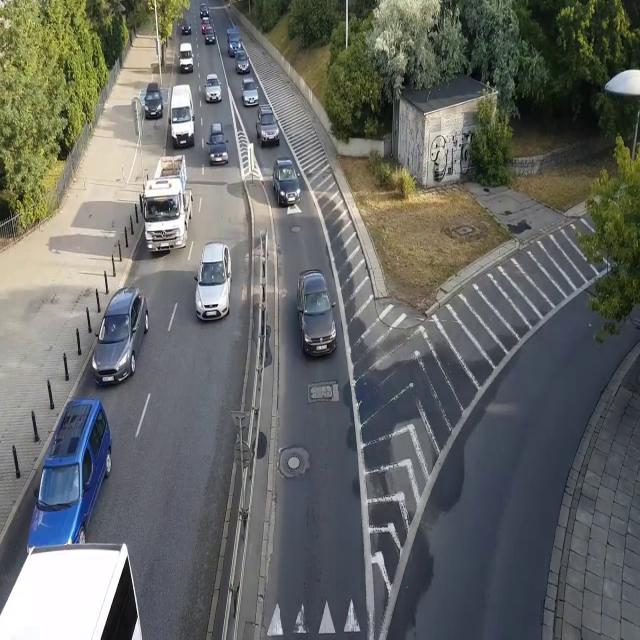bus: (0, 545, 143, 640)
car: (88, 282, 152, 386), (297, 270, 338, 359), (192, 241, 233, 320), (270, 156, 303, 208), (204, 122, 230, 167), (255, 102, 280, 146), (145, 82, 163, 120), (204, 73, 222, 104), (240, 78, 259, 107), (234, 50, 250, 75), (204, 28, 216, 45), (198, 3, 209, 20), (181, 20, 192, 36), (201, 17, 211, 34)
truck: (141, 154, 194, 252)
van: (27, 396, 112, 564), (168, 84, 196, 148), (178, 42, 194, 72), (226, 28, 242, 57)
